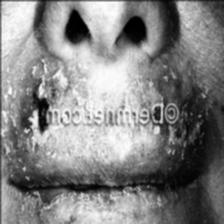Potentially Malignant Skin Tumors: (30, 74, 64, 106), (166, 125, 202, 152)
